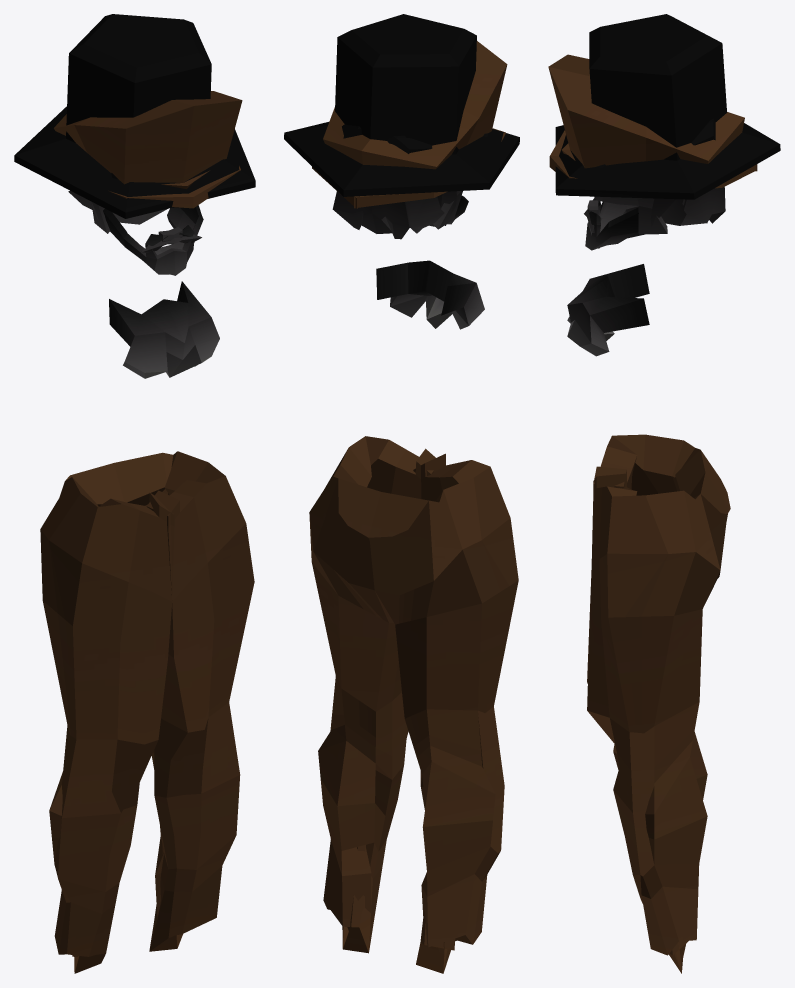
The model's file is accessory_balvan.fbx.
3 views of the same model, side by side, from view 1: azimuth 30°, elevation 25°; view 2: azimuth 150°, elevation 25°; view 3: azimuth 270°, elevation 25° (orthographic). The views are drawn at different scales.
Visible parts, largest first — view 1: Body.001, Cube.001, Cube, BodyHair, Beard, Hair; view 2: Body.001, Cube.001, Cube, BodyHair, Hair; view 3: Body.001, Cube.001, Cube, BodyHair, Hair, Beard.
Part boxes in pixels (box(x1,y1,x2,y2)): Body.001: box(40, 451, 254, 973); Cube.001: box(14, 14, 255, 218); Cube: box(54, 91, 242, 208); BodyHair: box(109, 281, 219, 378); Beard: box(103, 205, 203, 275); Hair: box(68, 173, 166, 233); Body.001: box(309, 436, 518, 973); Cube.001: box(284, 14, 519, 196); Cube: box(312, 41, 507, 208); BodyHair: box(376, 260, 484, 329); Hair: box(332, 124, 487, 239); Body.001: box(587, 434, 730, 973); Cube.001: box(555, 14, 780, 199); Cube: box(548, 54, 757, 188); BodyHair: box(567, 264, 649, 356); Hair: box(594, 118, 725, 234); Beard: box(585, 198, 644, 250).
Size of the model in its own units: 143 by 608 by 140.
2 materials, 2 textured.
